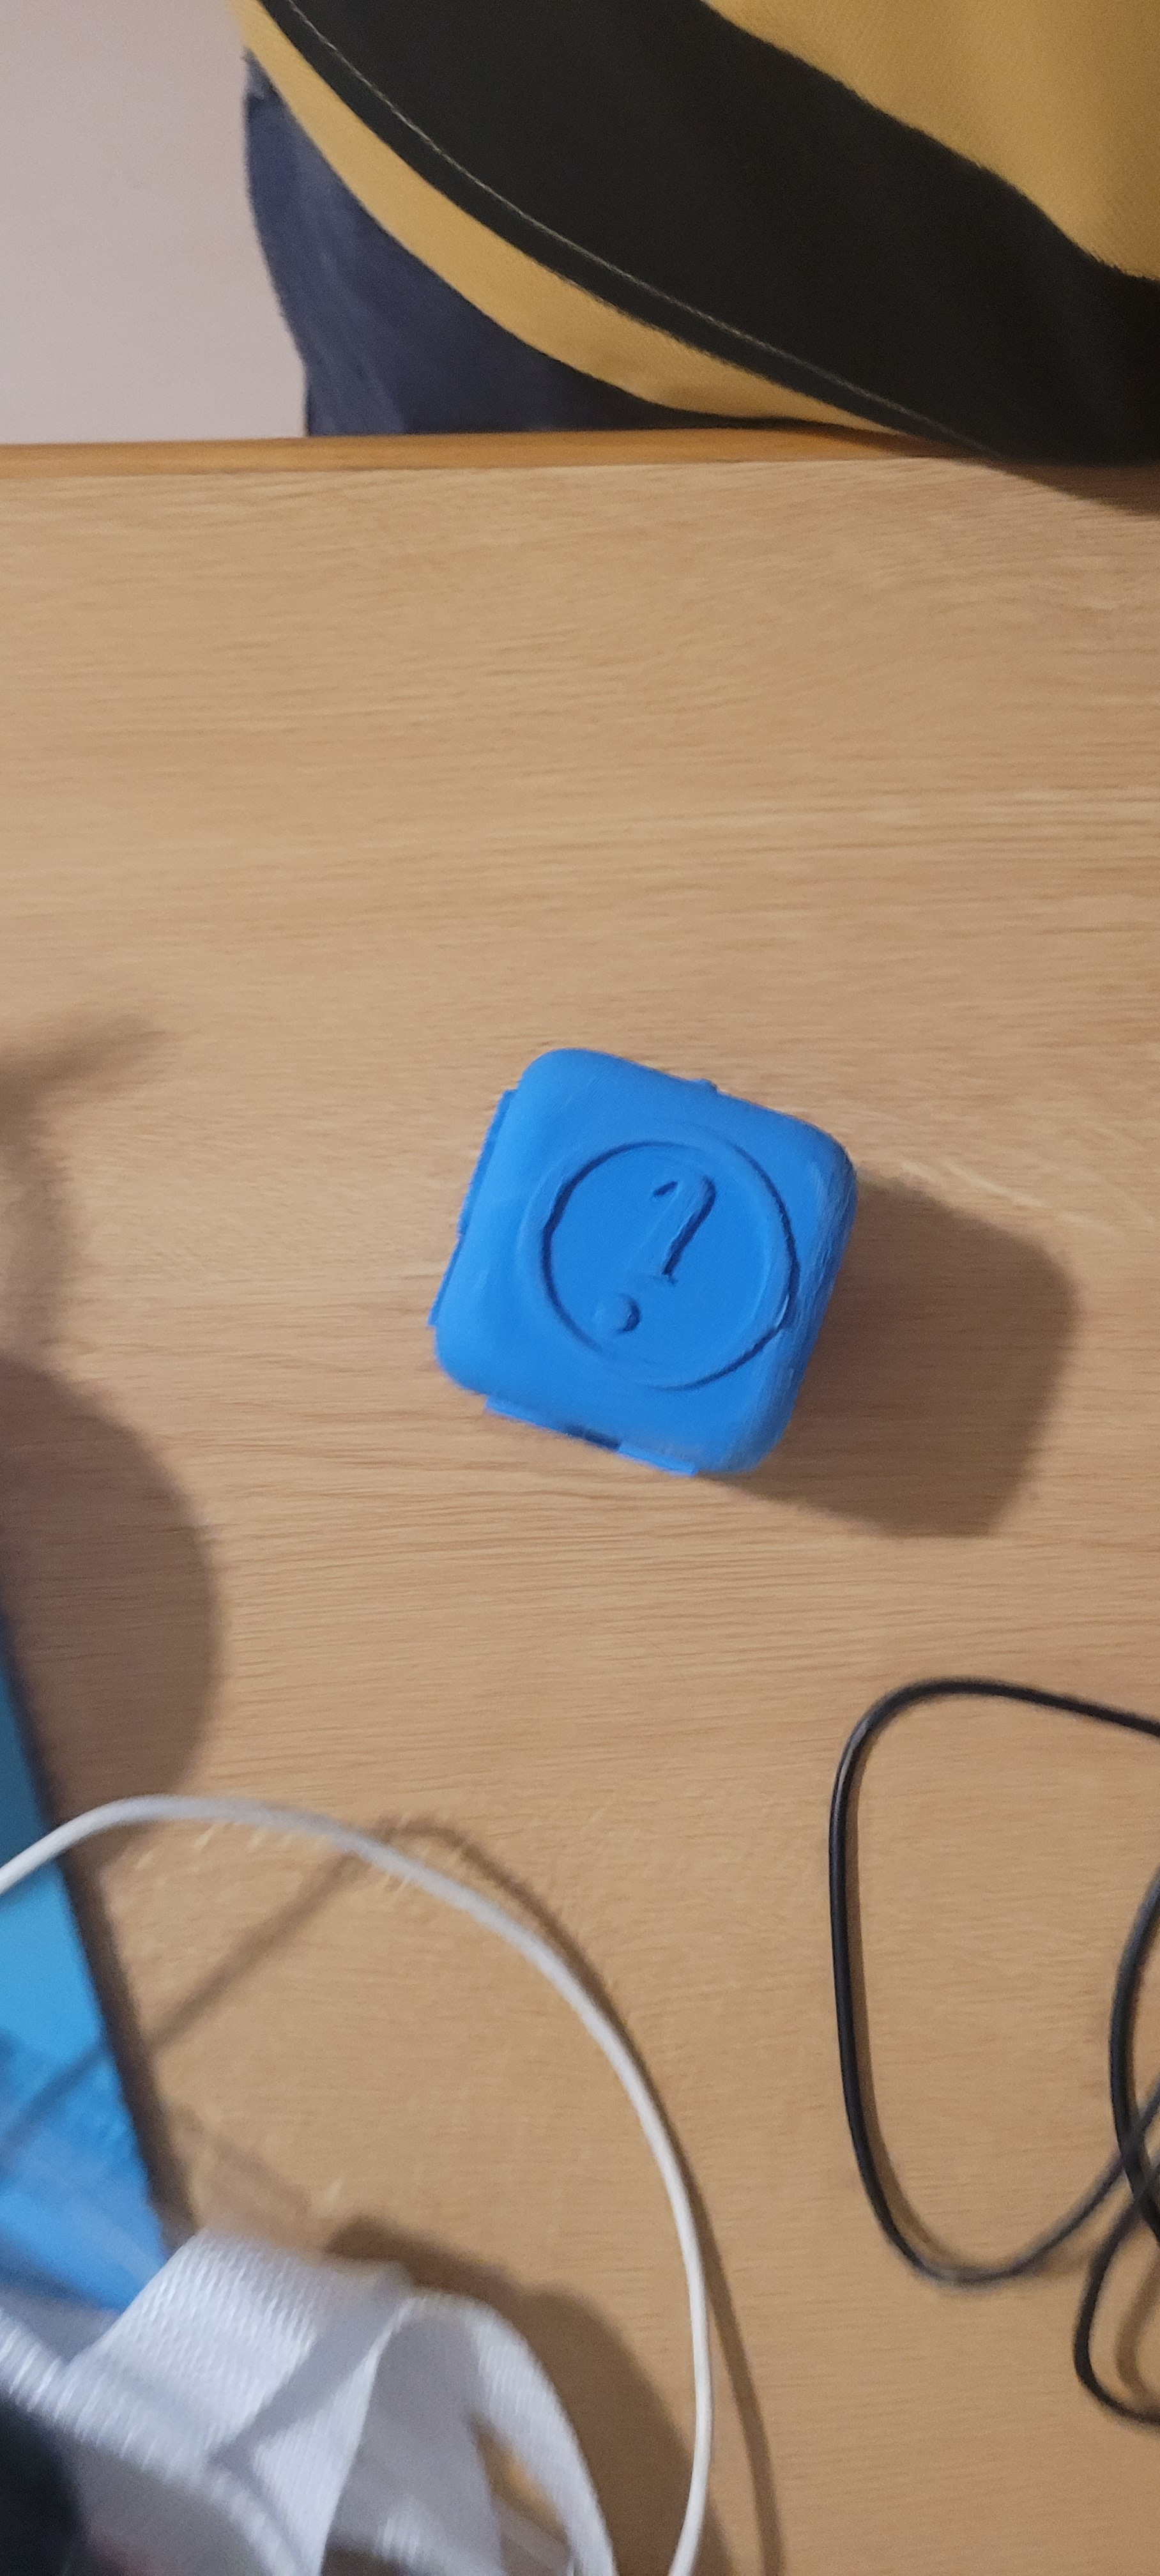Info: (506, 1066, 780, 1424)
